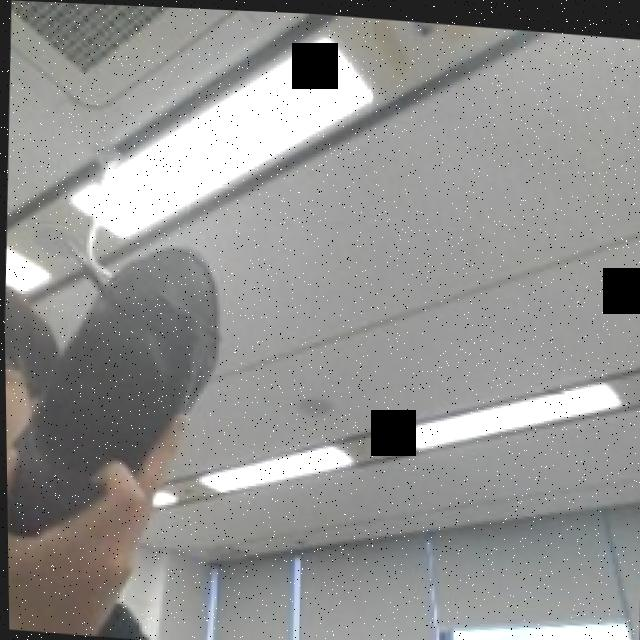shoes: (3, 231, 224, 552)
